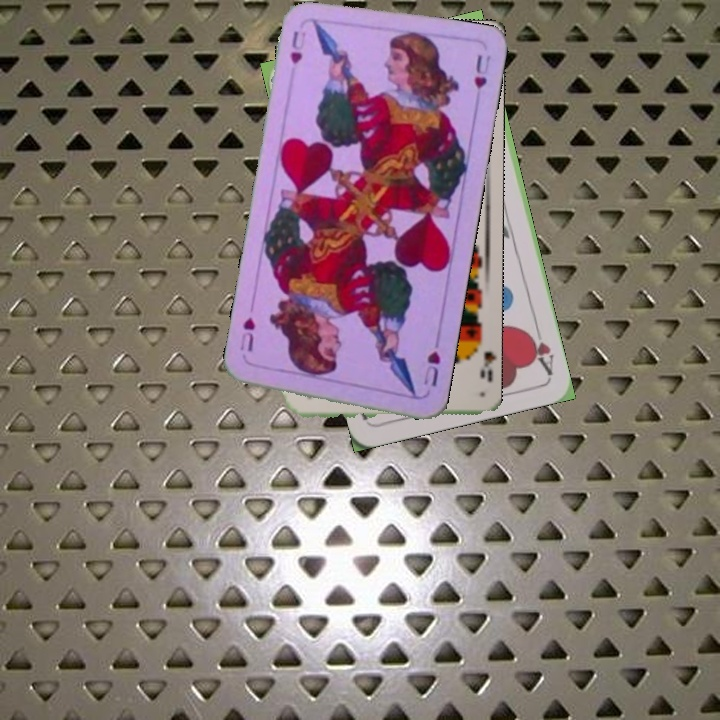HA: (524, 320, 556, 378)
HU: (420, 336, 443, 389), (286, 27, 309, 67)
S9: (466, 335, 487, 380)
